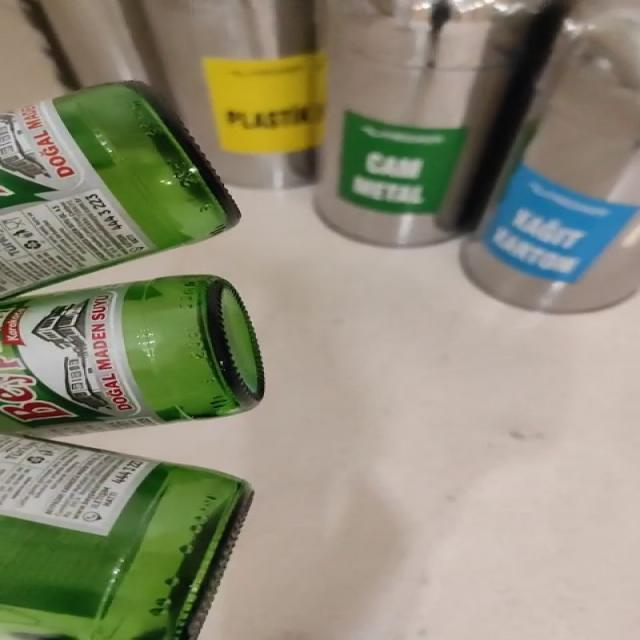Glass: (0, 276, 264, 640), (0, 83, 239, 296)
